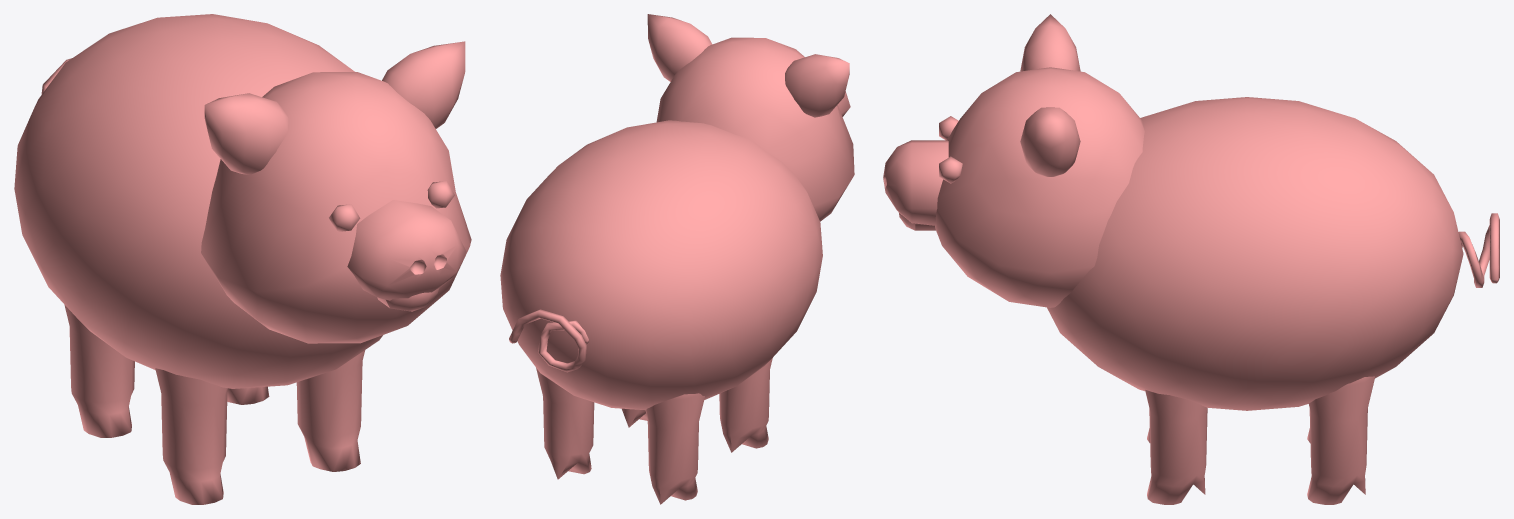
The model's file is ccb61b1c-854d-42a1-b16f-04a433f3b359.glb.
3 renders of one model, left to right at view 1: azimuth 30°, elevation 25°; view 2: azimuth 150°, elevation 25°; view 3: azimuth 270°, elevation 25°, orthographic. The views are drawn at different scales.
Parts seen in each view (by area): view 1: Null.1; view 2: Null.1; view 3: Null.1.
Boxes of the visible parts, left/top/right/bottom form: Null.1: left=14, top=14, right=471, bottom=504; Null.1: left=500, top=14, right=854, bottom=504; Null.1: left=883, top=14, right=1499, bottom=504.
Bounding box in the file's own units: 198 × 256 × 359.
